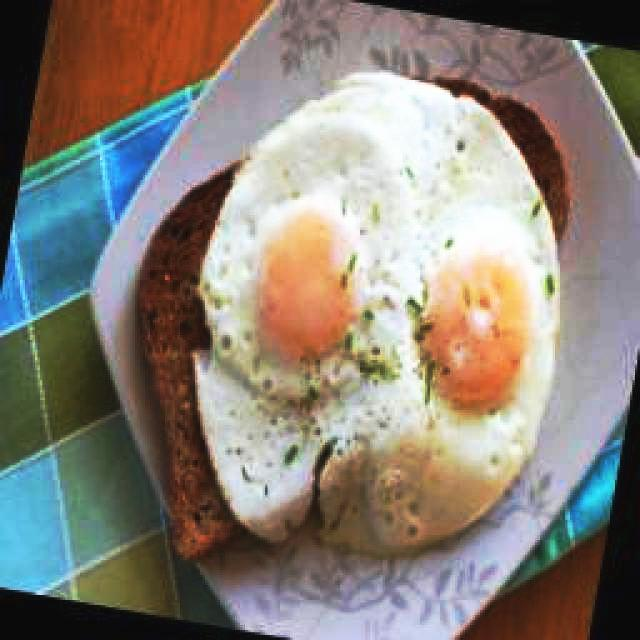fried_eggs: (199, 73, 418, 542), (418, 82, 561, 538)
